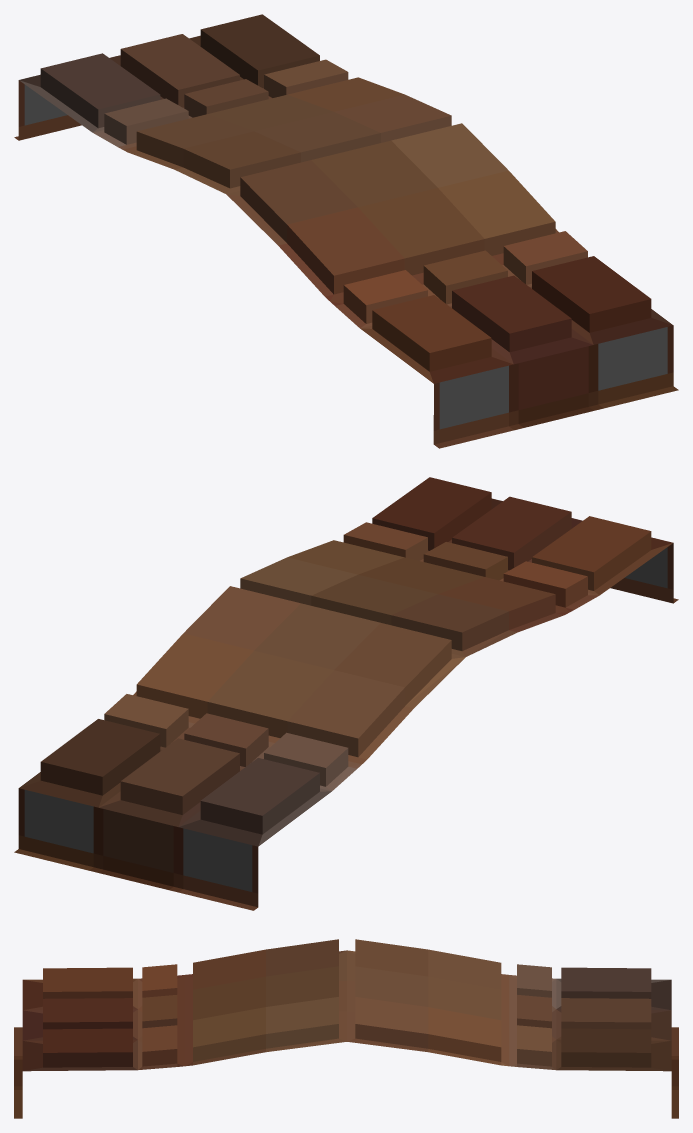
File: Ceiling_HomeA-VaultedA.fbx
3 views of the same model, one above another, from view 1: azimuth 30°, elevation 25°; view 2: azimuth 150°, elevation 25°; view 3: azimuth 270°, elevation 25° (orthographic). The views are drawn at different scales.
Parts seen in each view (by area): view 1: Ceiling_HomeA-VaultedA; view 2: Ceiling_HomeA-VaultedA; view 3: Ceiling_HomeA-VaultedA.
Part boxes in pixels (x1,y1,x2,y2): Ceiling_HomeA-VaultedA: [14, 14, 678, 448]; Ceiling_HomeA-VaultedA: [14, 477, 678, 910]; Ceiling_HomeA-VaultedA: [14, 939, 678, 1118].
Size of the model in its own units: 200 by 93.3 by 615.
